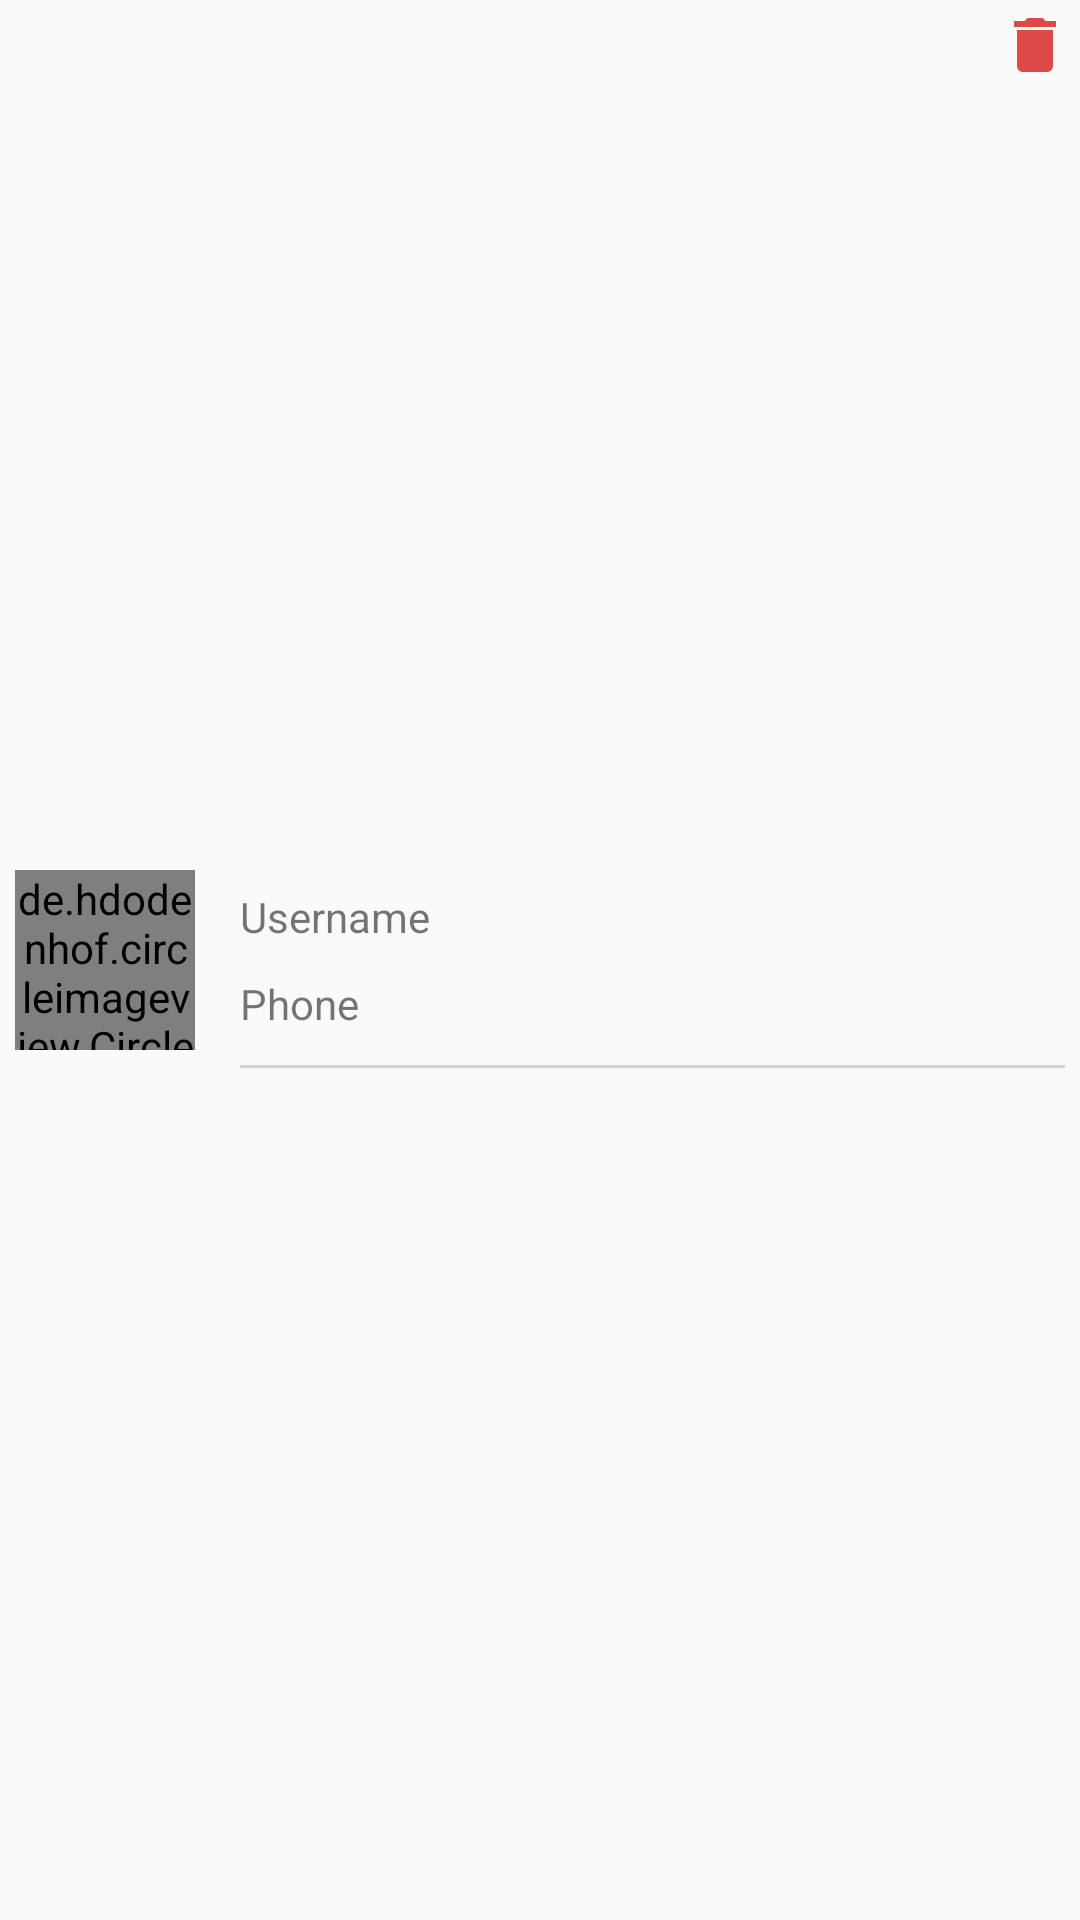

Screen size 1080w x 1920h. Icon name, then its center in pixels as [x,y]:
delete: [1035,45]
